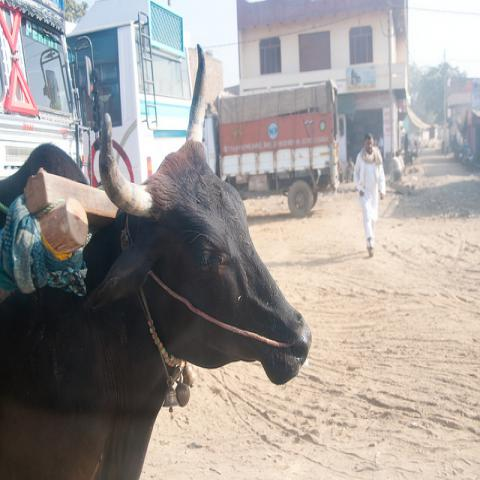bus: (66, 0, 195, 191), (0, 3, 89, 179)
truck: (202, 79, 340, 217)
